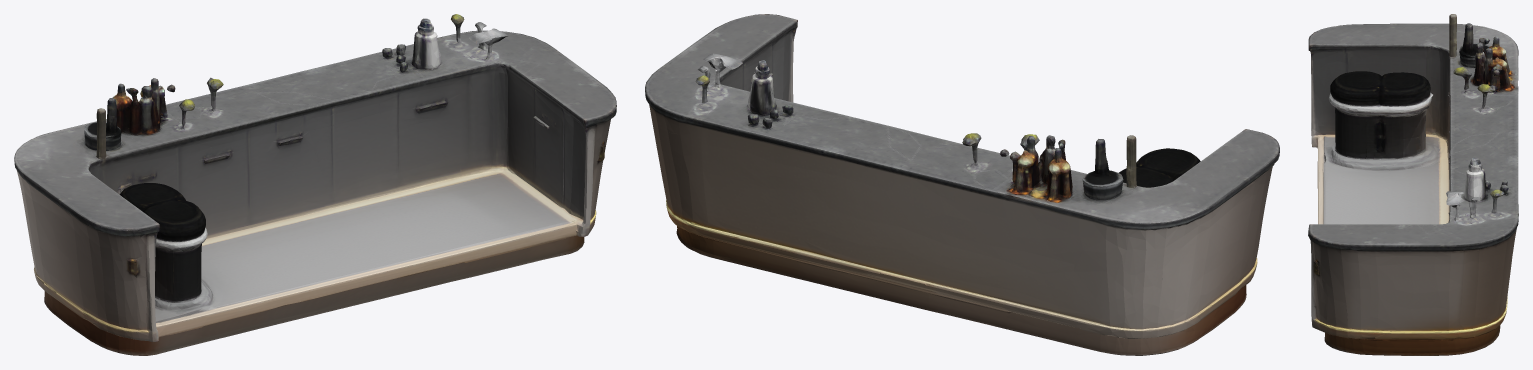
The model's file is bar_straight.glb.
The picture shows the model from 3 angles, left to right: view 1: azimuth 30°, elevation 25°; view 2: azimuth 150°, elevation 25°; view 3: azimuth 270°, elevation 25°; orthographic projection. The views are drawn at different scales.
Parts seen in each view (by area): view 1: world; view 2: world; view 3: world.
Boxes of the visible parts, <box> form: world: <box>14,14,616,355</box>; world: <box>645,14,1279,355</box>; world: <box>1308,14,1518,355</box>.
Size of the model in its own units: 1 by 0.3374 by 0.4013.
1 material, 1 textured.
